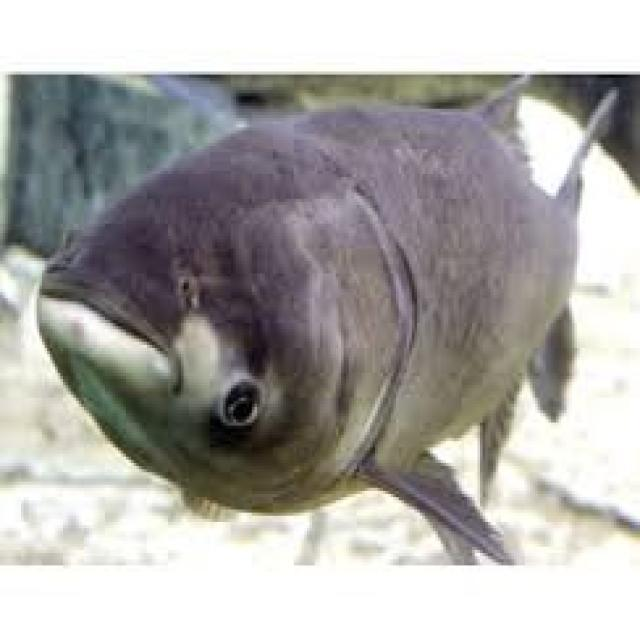Big-Head-Carp: (12, 33, 626, 584)
